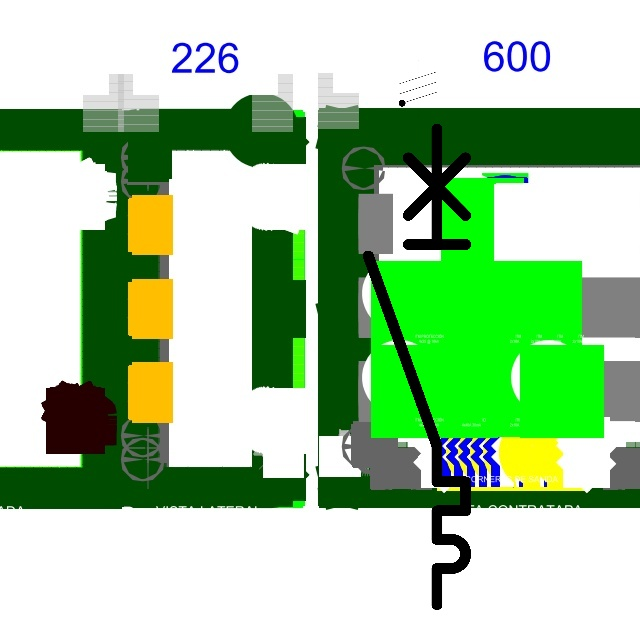interruptor_termomagnetico: (356, 116, 478, 617)
